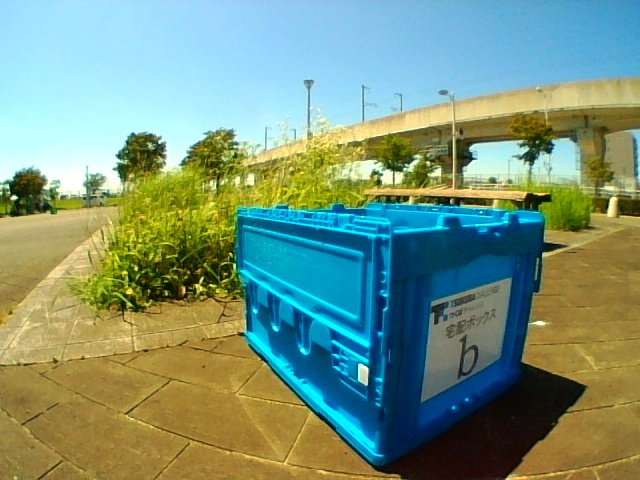blue_box: (309, 212, 515, 379)
tag_b: (441, 301, 480, 377)
